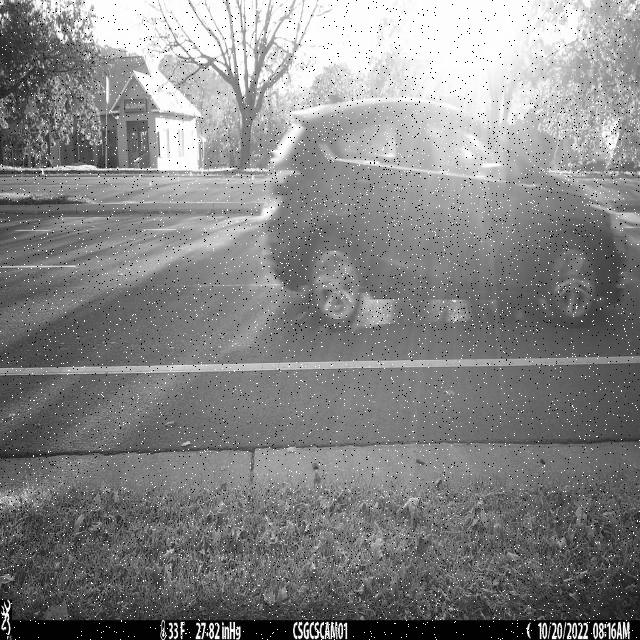Hatchback: (264, 99, 626, 331)
